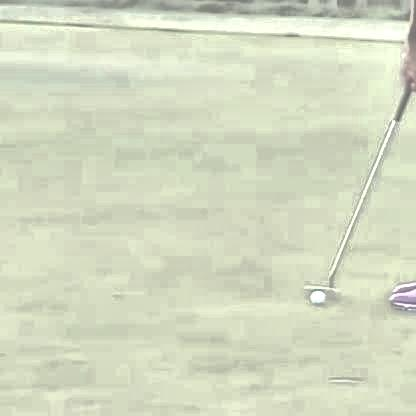golfball: (305, 287, 323, 303)
